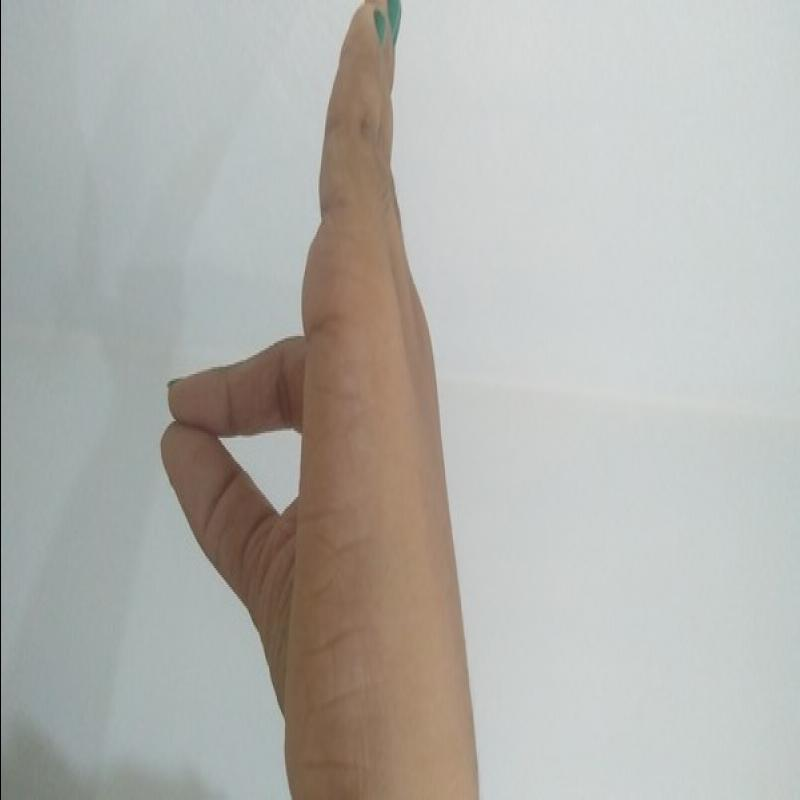Mudraakhyam: (144, 1, 491, 773)
